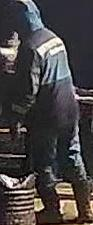gloves: (6, 109, 25, 146)
vest: (19, 31, 79, 131)
